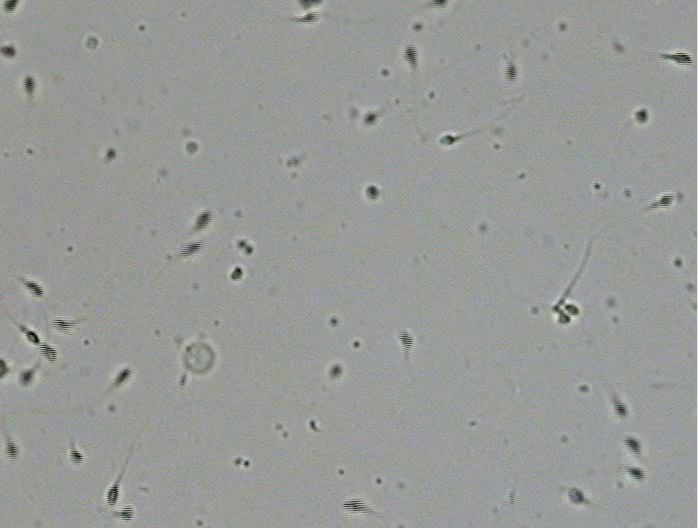Impurity: (183, 342, 215, 374), (85, 37, 99, 49)
S: (669, 52, 693, 66), (22, 327, 40, 345), (624, 436, 641, 455), (179, 242, 202, 256), (195, 210, 211, 230), (24, 280, 44, 296), (398, 330, 413, 351), (39, 344, 56, 362), (403, 46, 418, 66), (567, 487, 584, 504), (116, 506, 134, 522), (343, 500, 365, 513), (628, 466, 646, 481), (5, 441, 19, 460), (107, 484, 119, 506), (52, 319, 73, 331), (613, 399, 627, 417), (23, 75, 35, 94), (19, 370, 34, 385), (115, 369, 130, 384), (658, 193, 673, 207), (300, 12, 319, 23), (505, 62, 516, 81), (3, 1, 18, 14), (1, 46, 16, 59), (69, 450, 84, 463), (230, 266, 243, 280), (439, 135, 455, 146), (366, 185, 378, 199), (301, 1, 322, 9), (564, 304, 579, 315), (1, 358, 9, 378), (329, 365, 342, 377), (364, 113, 377, 125), (186, 142, 198, 154), (636, 109, 647, 122), (558, 312, 570, 323), (106, 149, 116, 159), (434, 1, 446, 6)
